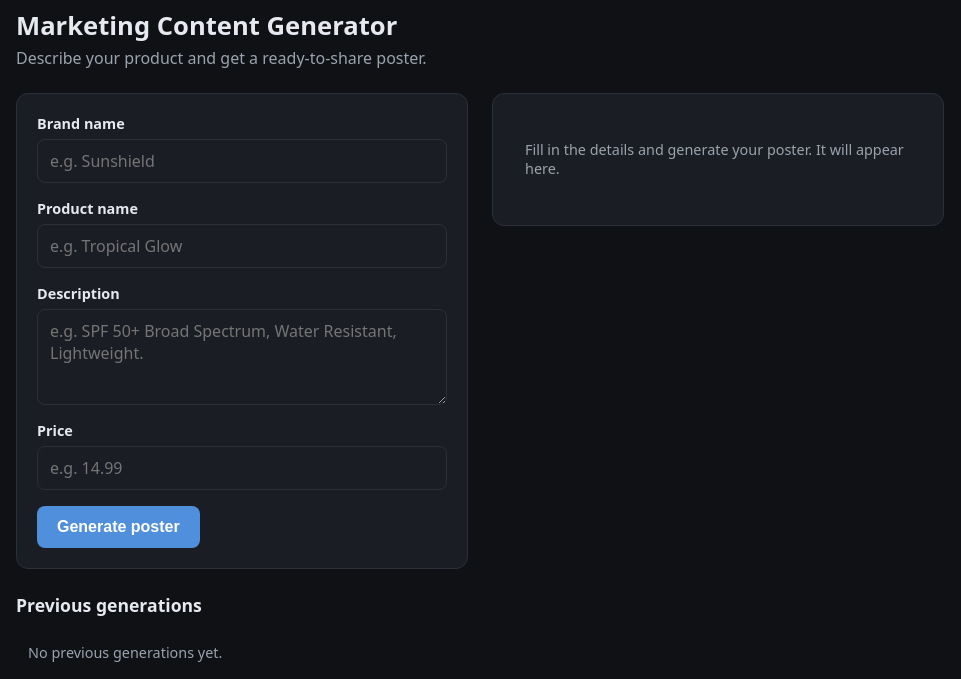
Test: App › keeps the form enabled with a failed generation and shows the error
The width and height of the screenshot is (961, 679).
Type "Sunshield" into the field labelled "Brand name".
click(242, 161); type("Sunshield")  # box [37, 139, 447, 183]
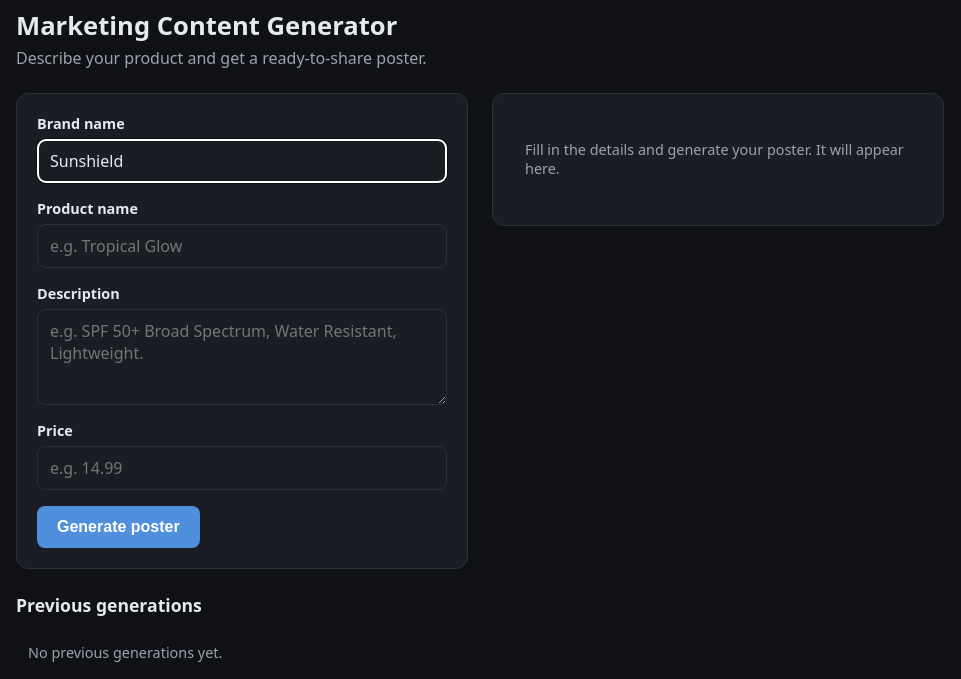
Type "Tropical Glow" into the field labelled "Product name".
click(242, 246); type("Tropical Glow")  # box [37, 224, 447, 268]
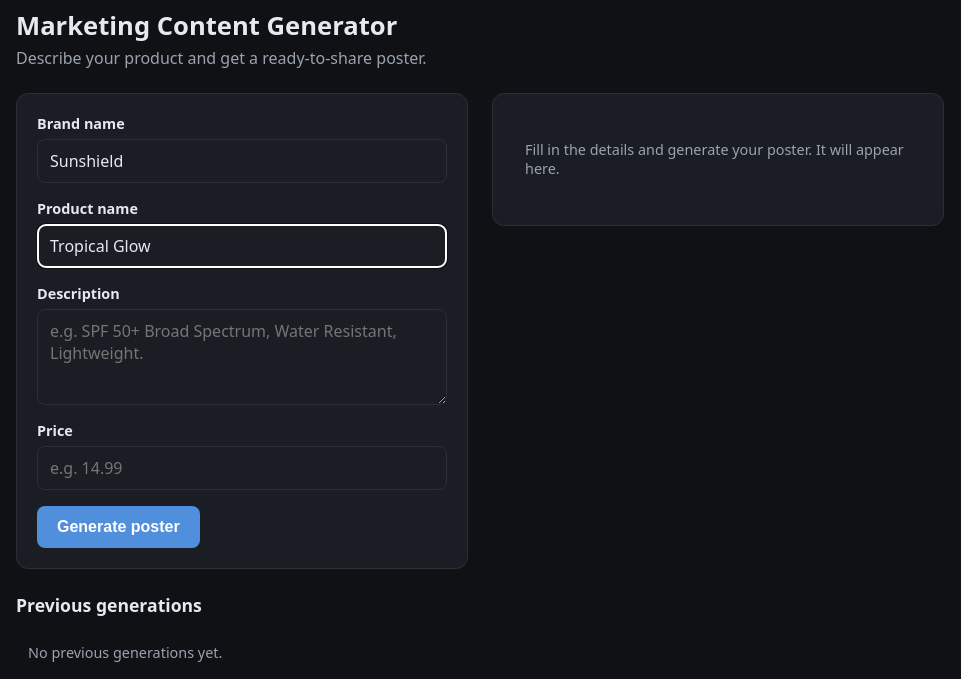
Type "SPF 50+ Broad Spectrum." into the text box labelled "Description".
click(242, 357); type("SPF 50+ Broad Spectrum.")  # box [37, 309, 447, 405]
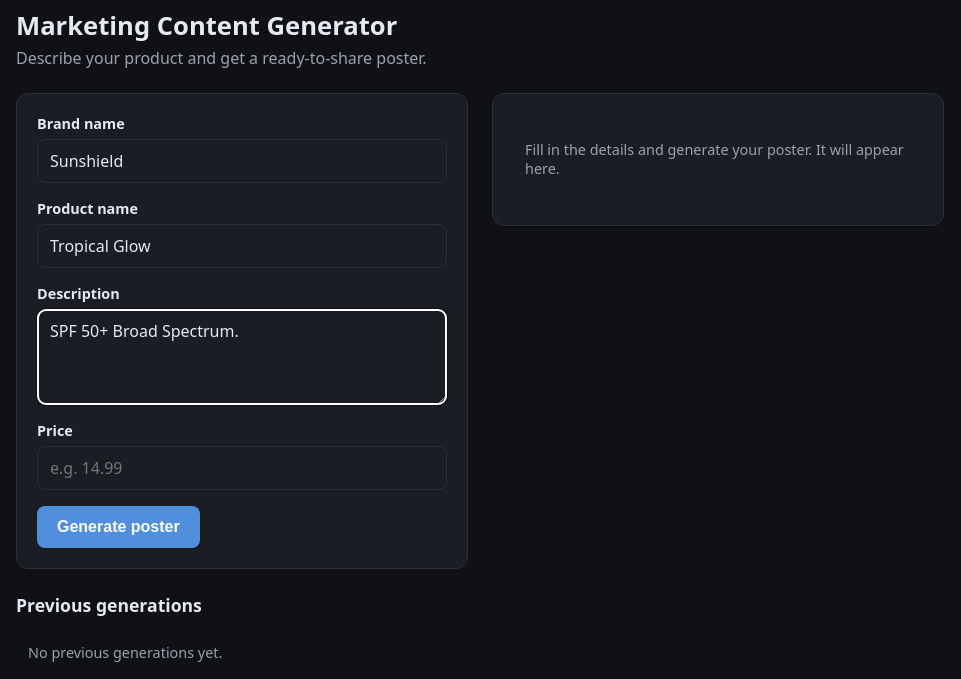
Type "14.99" into the field labelled "Price".
click(242, 468); type("14.99")  # box [37, 446, 447, 490]
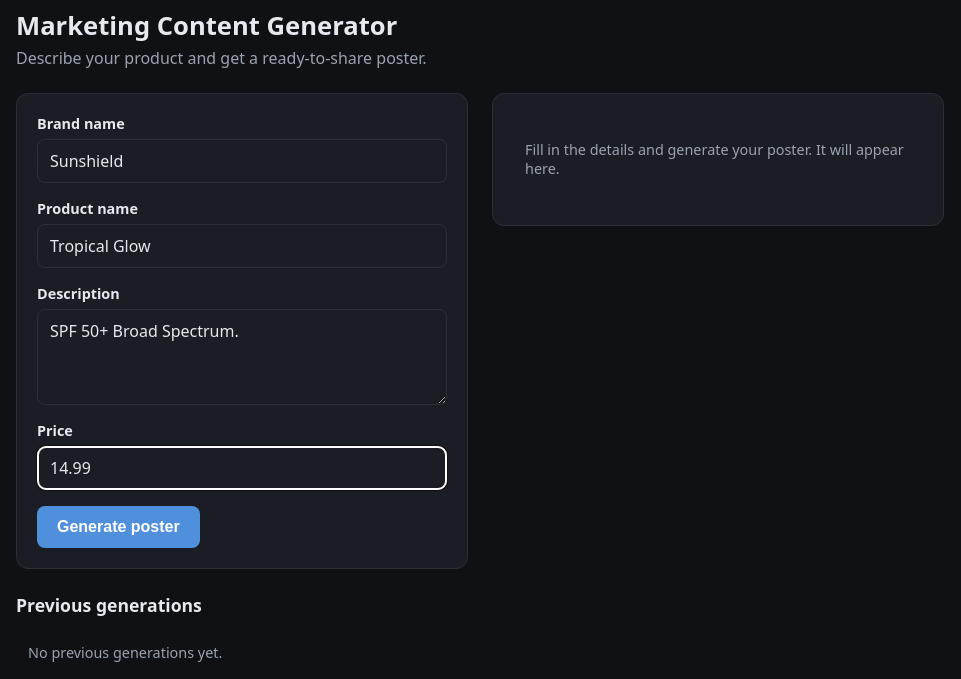
Click the button "Generate poster".
click(118, 527)  # box [37, 506, 200, 548]
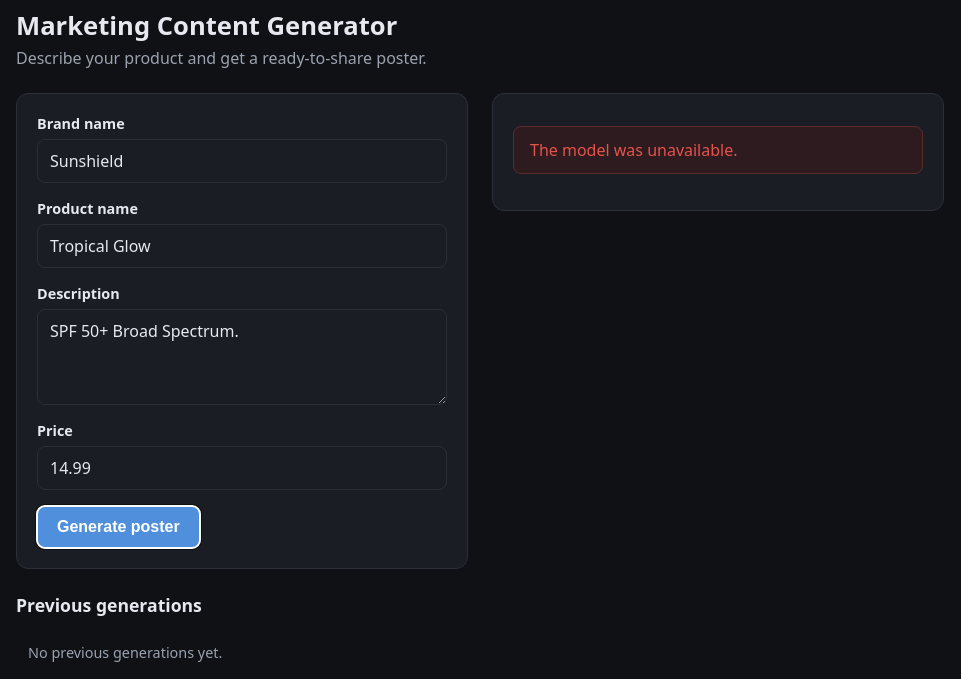
Expected: the text "The model was unavailable." is shown, [513, 126, 923, 174]
